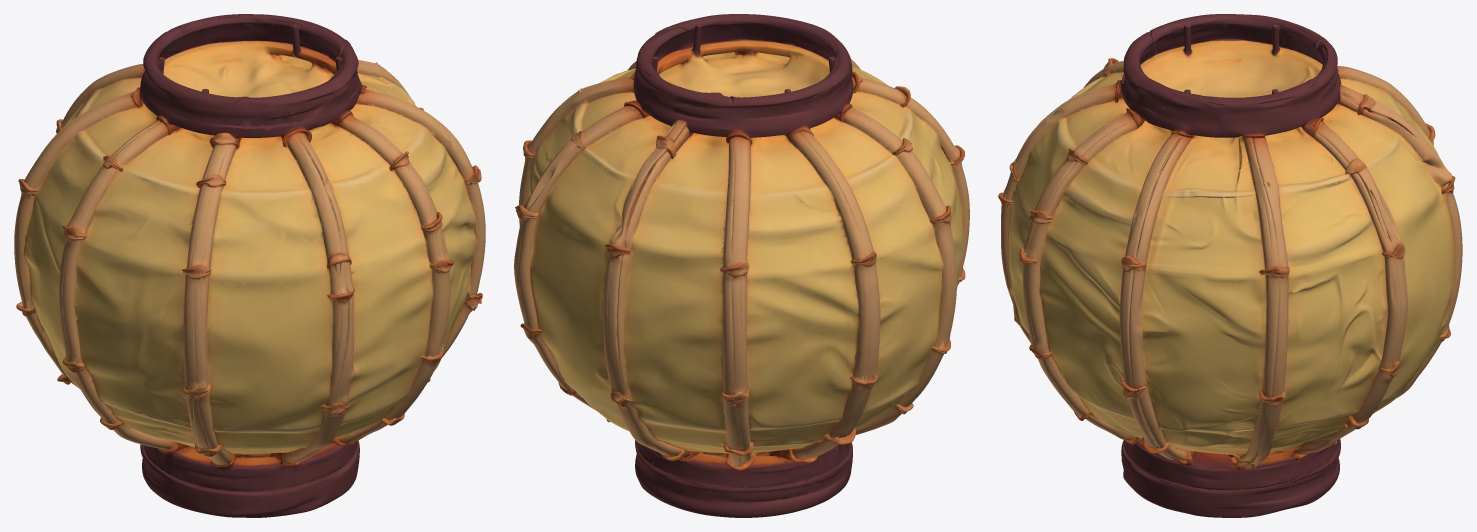
Rendered from lantern.glb.
The picture shows the model from 3 angles, left to right: view 1: azimuth 30°, elevation 25°; view 2: azimuth 150°, elevation 25°; view 3: azimuth 270°, elevation 25°; orthographic projection.
Visible parts, largest first — view 1: tripo_node_c950665e-d67e-4225-b188-6305afbd7b18; view 2: tripo_node_c950665e-d67e-4225-b188-6305afbd7b18; view 3: tripo_node_c950665e-d67e-4225-b188-6305afbd7b18.
Boxes of the visible parts, <box> form: tripo_node_c950665e-d67e-4225-b188-6305afbd7b18: <box>14,14,485,517</box>; tripo_node_c950665e-d67e-4225-b188-6305afbd7b18: <box>514,14,969,517</box>; tripo_node_c950665e-d67e-4225-b188-6305afbd7b18: <box>998,14,1462,517</box>.
Bounding box in the file's own units: 0.9764 × 0.9781 × 0.9787.
Materials: 1 (1 with a texture image).
